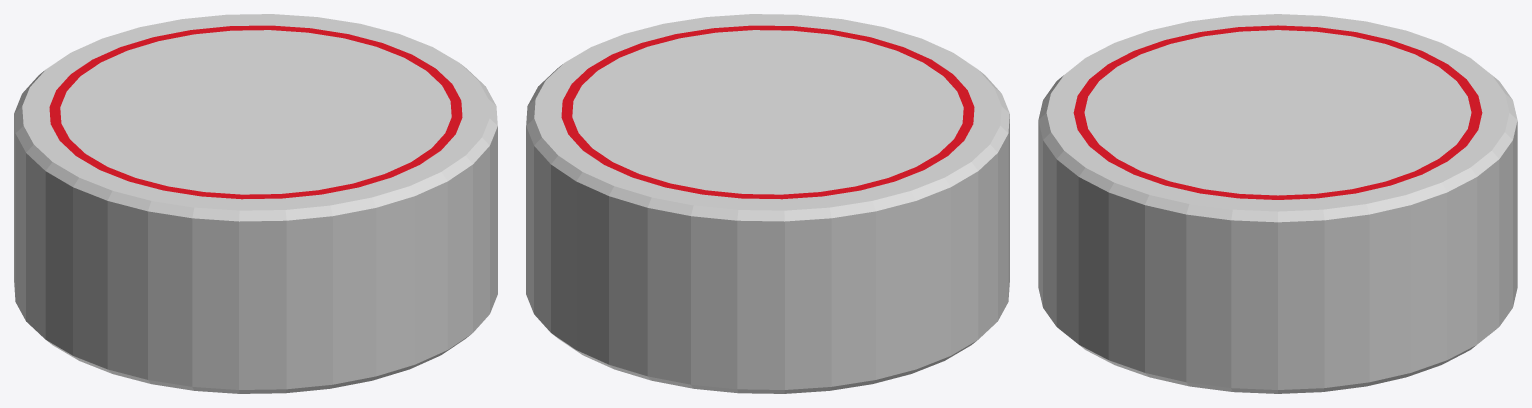
The picture shows the model from 3 angles, left to right: view 1: azimuth 30°, elevation 25°; view 2: azimuth 150°, elevation 25°; view 3: azimuth 270°, elevation 25°; orthographic projection.
Parts seen in each view (by area): view 1: Cylinder; view 2: Cylinder; view 3: Cylinder.
Boxes of the visible parts, left/top/right/bottom form: Cylinder: left=14, top=14, right=497, bottom=393; Cylinder: left=526, top=14, right=1009, bottom=393; Cylinder: left=1038, top=14, right=1517, bottom=393.
Size of the model in its own units: 1127 by 469 by 1117.
